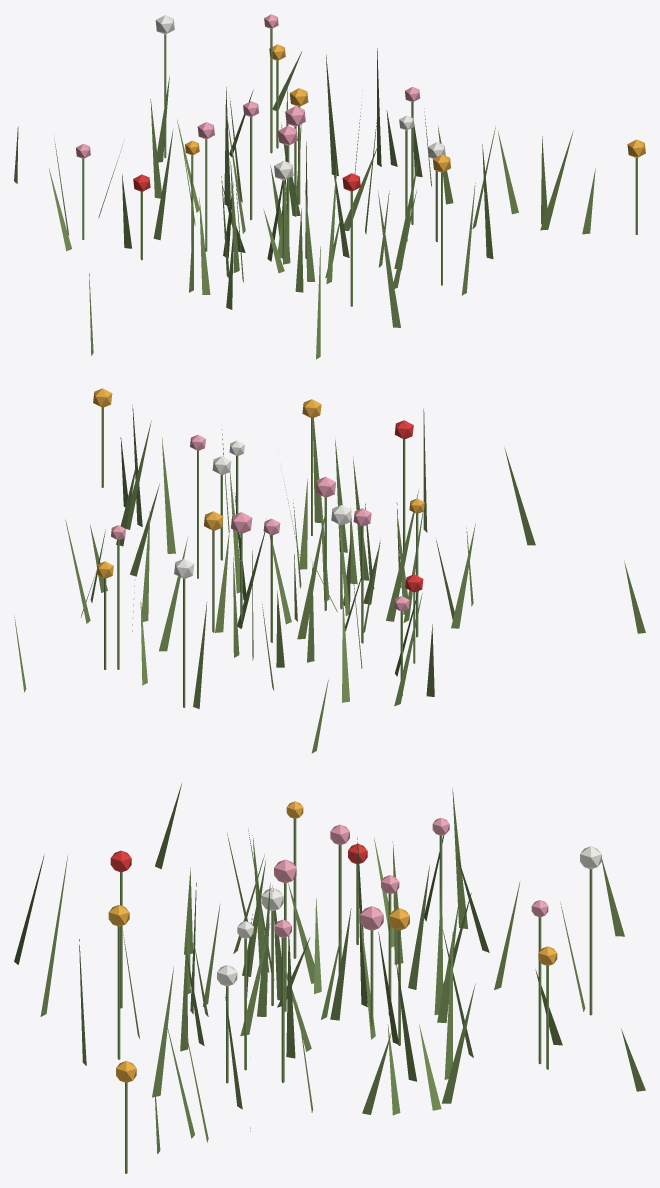
Rendered from WildflowerClump.fbx.
3 views of the same model, one above another, from view 1: azimuth 30°, elevation 25°; view 2: azimuth 150°, elevation 25°; view 3: azimuth 270°, elevation 25° (orthographic). The views are drawn at different scales.
Parts seen in each view (by area): view 1: WildflowerClump; view 2: WildflowerClump; view 3: WildflowerClump.
Part boxes in pixels (x1,y1,x2,y2): WildflowerClump: (14,14,645,359); WildflowerClump: (14,388,645,753); WildflowerClump: (14,783,645,1173).
Size of the model in its own units: 2.31 by 0.5838 by 1.98.
